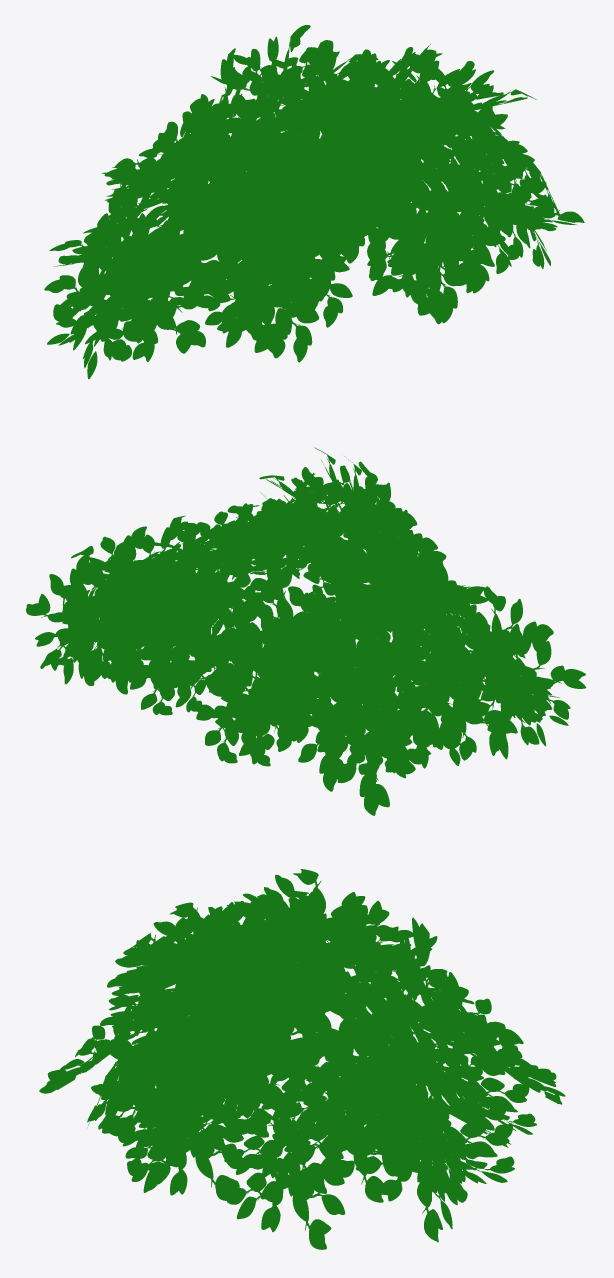
The model's file is Bush01.FBX.
3 renders of one model, top to bottom at view 1: azimuth 30°, elevation 25°; view 2: azimuth 150°, elevation 25°; view 3: azimuth 270°, elevation 25°, orthographic. The views are drawn at different scales.
Parts seen in each view (by area): view 1: Bush01; view 2: Bush01; view 3: Bush01.
Boxes of the visible parts, left/top/right/bottom form: Bush01: left=44, top=25, right=584, bottom=379; Bush01: left=26, top=447, right=586, bottom=815; Bush01: left=39, top=869, right=565, bottom=1249.
Size of the model in its own units: 447 by 242 by 377.
